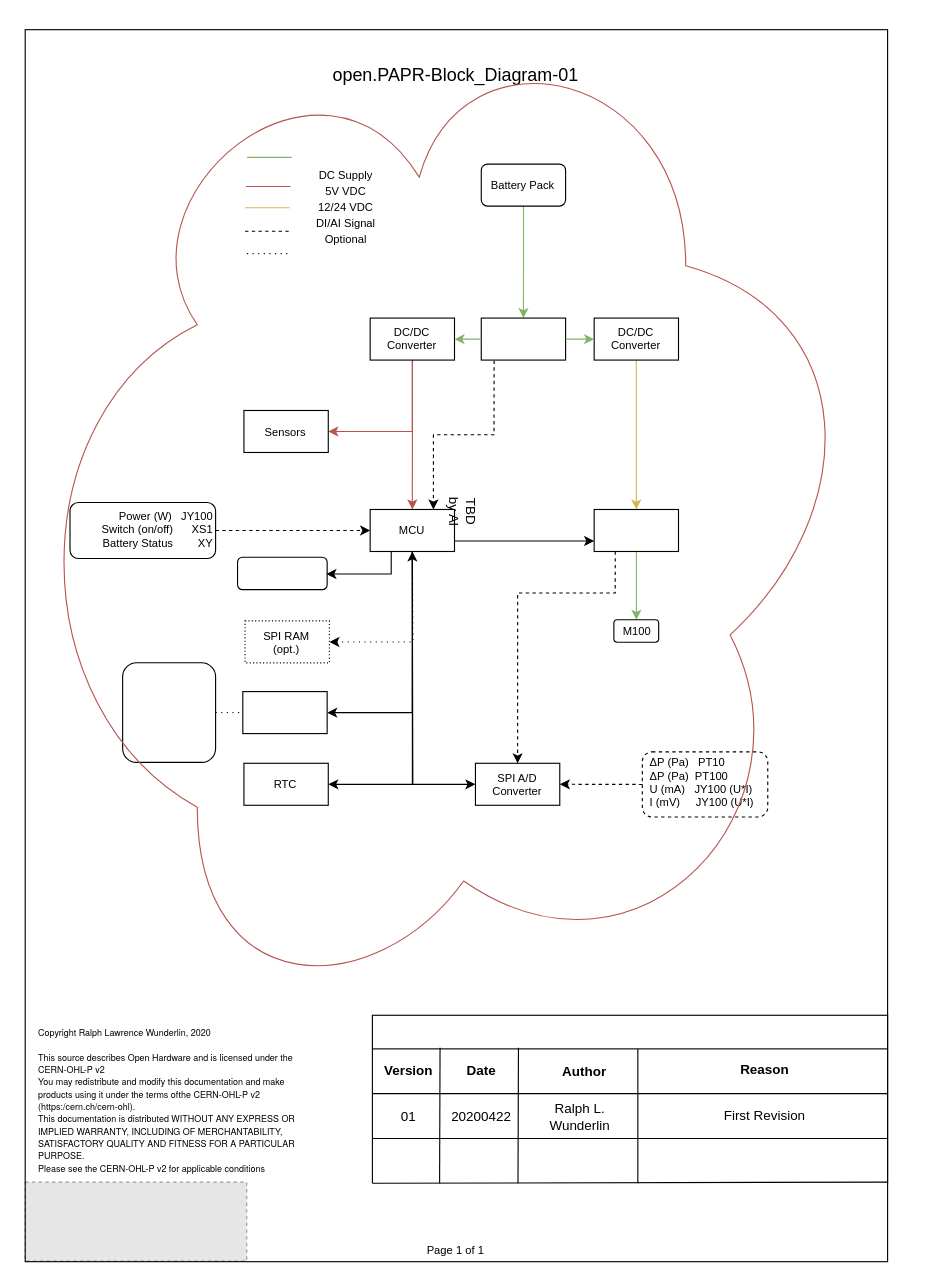
Image size: 927x1281. Some labels were removed from this diagram. Grey dashed boxes stand in for pictures. The shapes that lost their labels are listed below. From the top down, each one's centre as x and y in pixels, then its label:
At point (523, 338): "Battery Monitoring System".
At point (635, 529): "Blower Control".
At point (281, 573): "Neopixel Passive Buzzer".
At point (169, 712): "(Firmware) Parameters Calibration Data Alarms Warnings Errors Statistics".
At point (284, 712): "SPI Flash".
At point (629, 1031): "Changelog".
